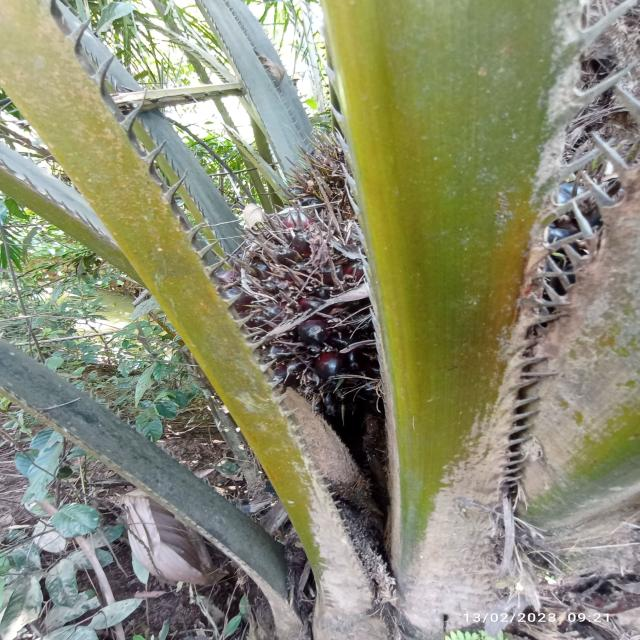fraksi 00: (159, 124, 486, 428)
